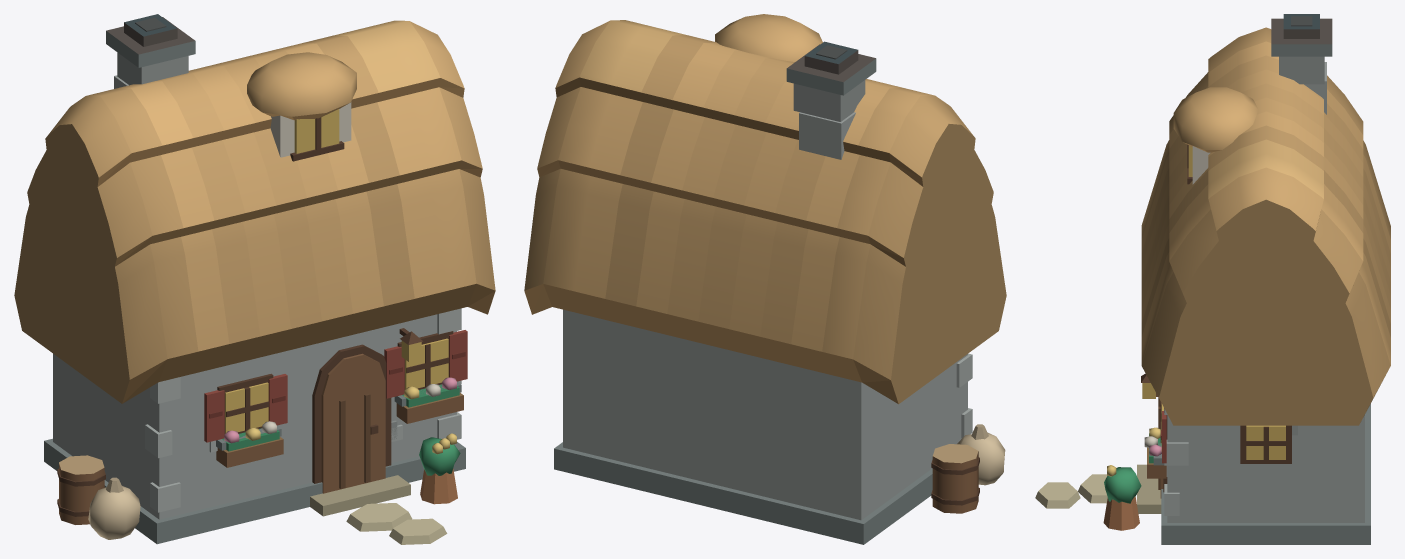
File: cottage_b.glb
3 views of the same model, side by side, from view 1: azimuth 30°, elevation 25°; view 2: azimuth 150°, elevation 25°; view 3: azimuth 270°, elevation 25° (orthographic). The views are drawn at different scales.
Visible parts, largest first — view 1: body, body_nl; view 2: body; view 3: body, body_nl.
Part boxes in pixels (<box>): body: <box>14,14,495,544</box>; body_nl: <box>224,377,460,475</box>; body: <box>524,14,1006,544</box>; body: <box>1035,14,1390,544</box>; body_nl: <box>1104,427,1161,503</box>.
Bounding box in the file's own units: 2.72 × 3.03 × 2.34.
